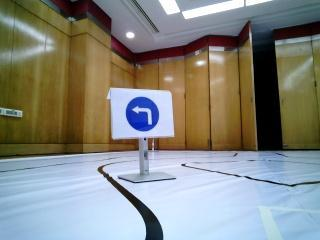left: (116, 89, 171, 137)
